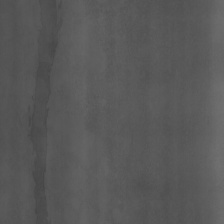water_spot: (27, 10, 62, 198)
